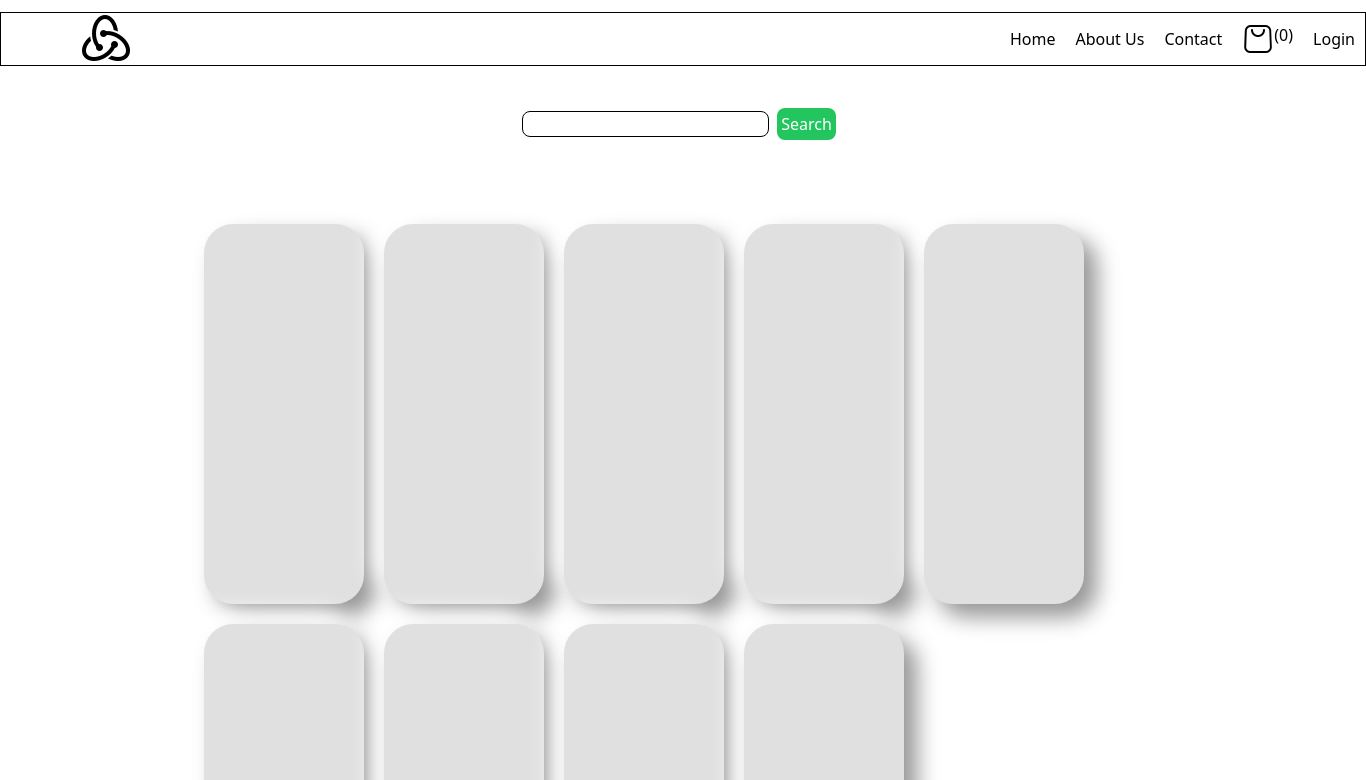
Test: Should test header component › Should render Cart Page on click cart Image
Click the picture with test id "cart-image" at (1258, 39), box [1242, 23, 1274, 55]
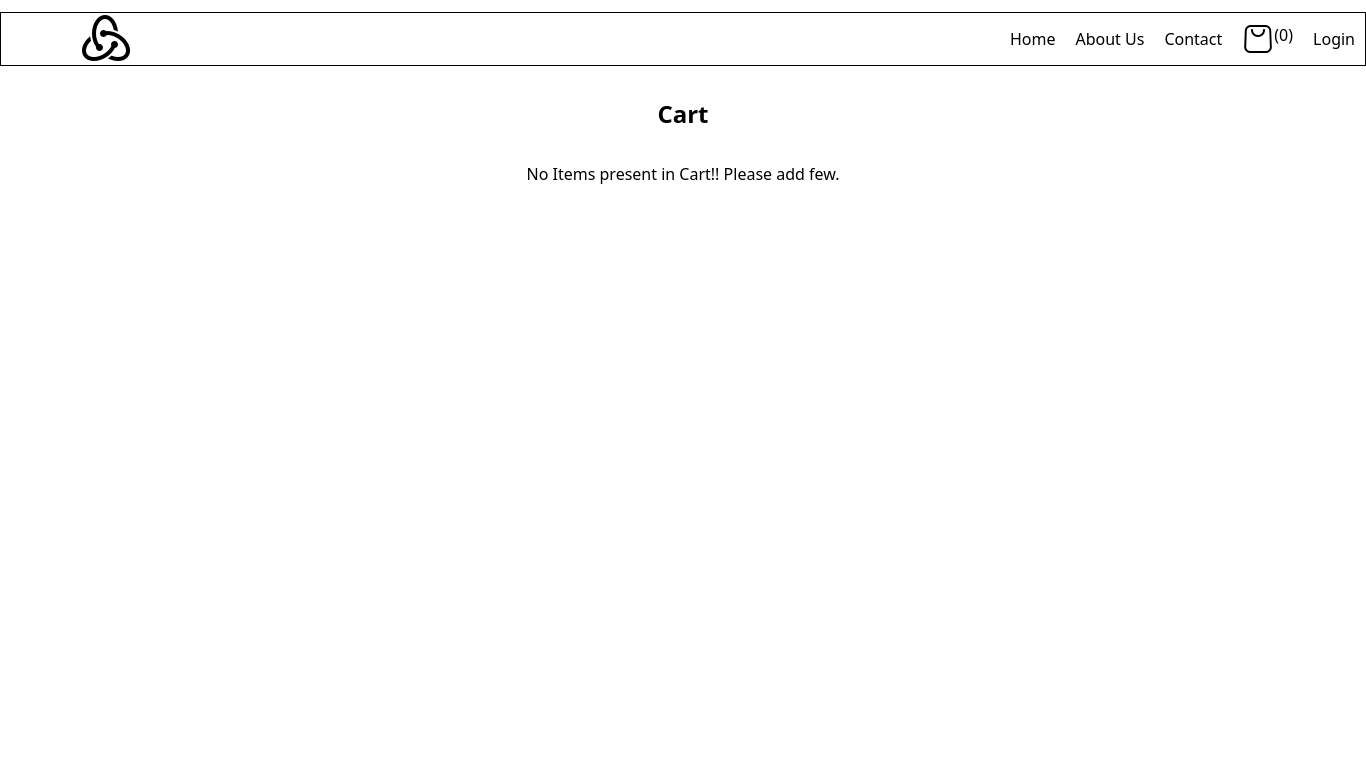
expect the text "Cart" is shown: met, box [657, 97, 708, 130]
expect the heading "No Items present in Cart!! Please add few." is shown: met, box [526, 163, 840, 185]
